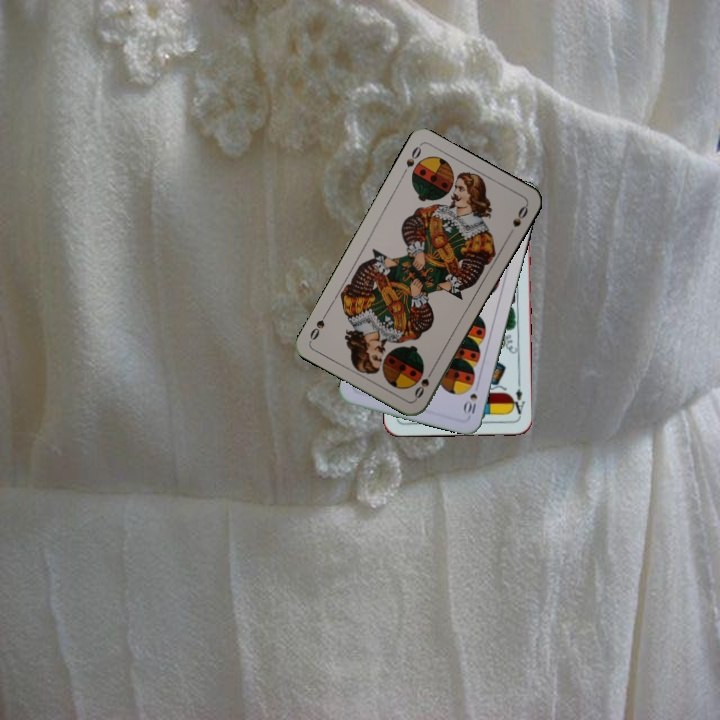EA: (507, 384, 527, 419)
S10: (460, 379, 482, 419)
SO: (410, 365, 436, 402), (398, 142, 424, 179)
